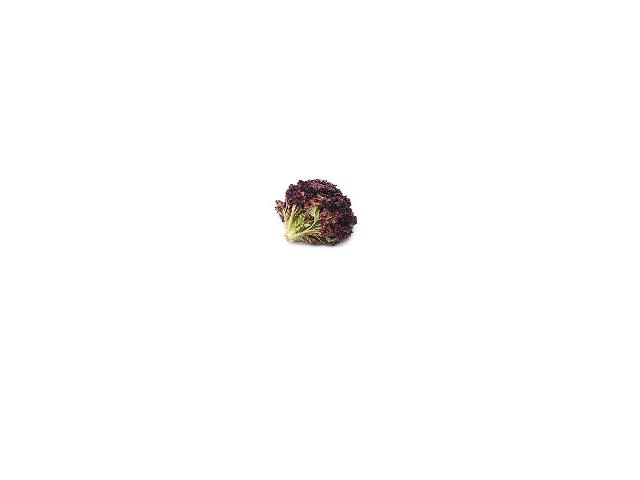lettuce: (279, 176, 360, 250)
